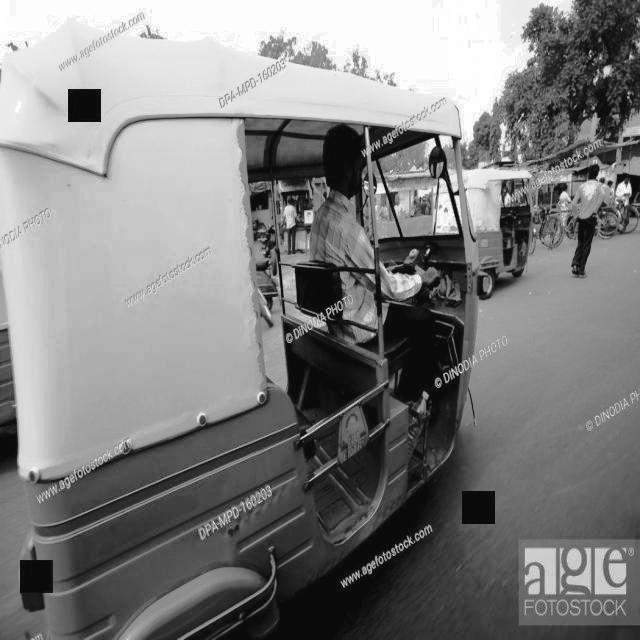Auto-Rickshaw: (2, 29, 501, 636), (443, 150, 540, 290)
